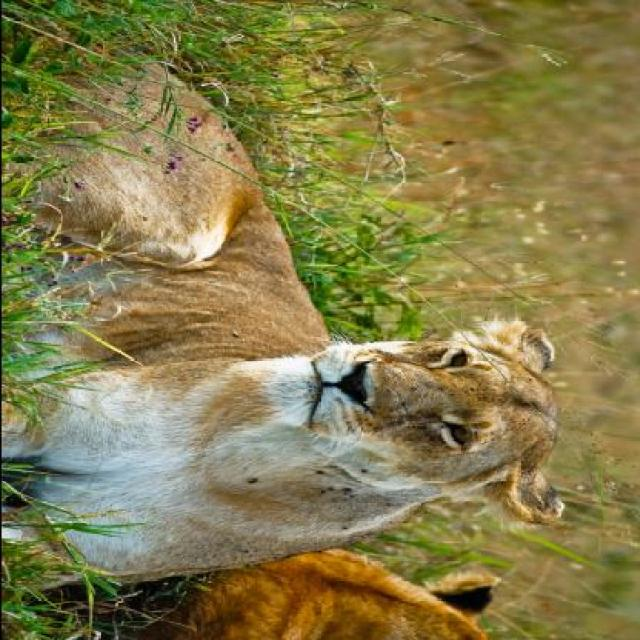Lion: (2, 43, 586, 575)
